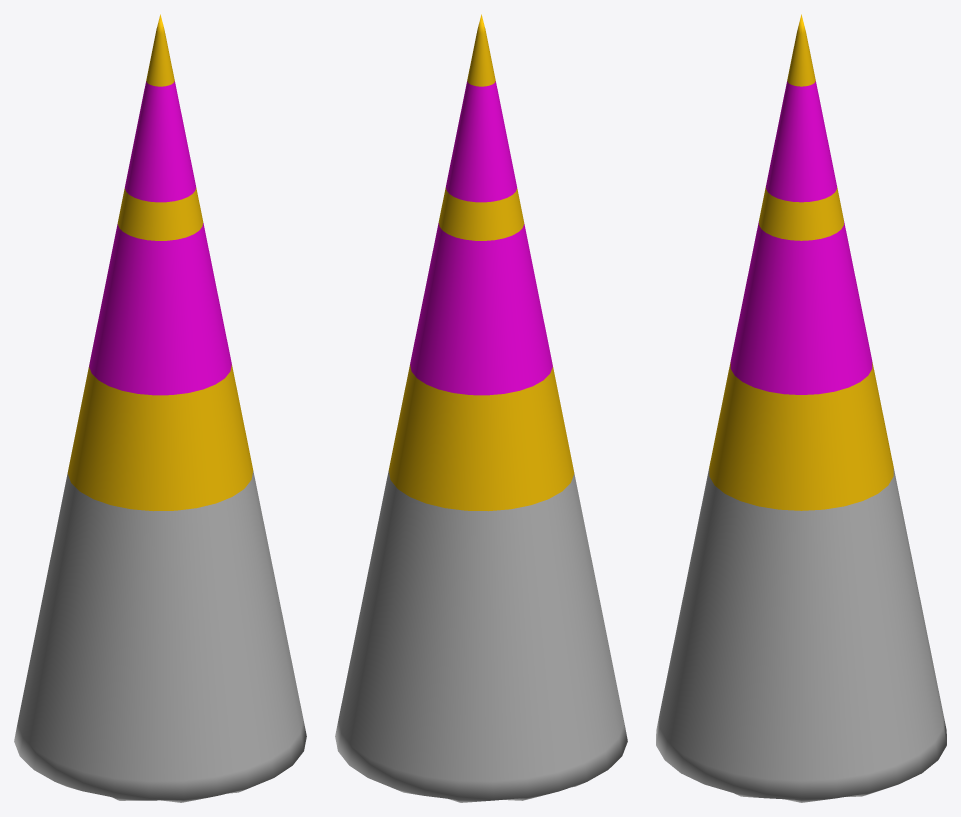
Rendered from conneRose.fbx.
The picture shows the model from 3 angles, left to right: view 1: azimuth 30°, elevation 25°; view 2: azimuth 150°, elevation 25°; view 3: azimuth 270°, elevation 25°; orthographic projection.
Visible parts, largest first — view 1: pCone2; view 2: pCone2; view 3: pCone2.
Part boxes in pixels (x1=…): pCone2: x1=14, y1=14, x2=306, y2=802; pCone2: x1=335, y1=14, x2=627, y2=802; pCone2: x1=656, y1=14, x2=946, y2=802.
Bounding box in the file's own units: 4.49 × 12.54 × 4.45.
